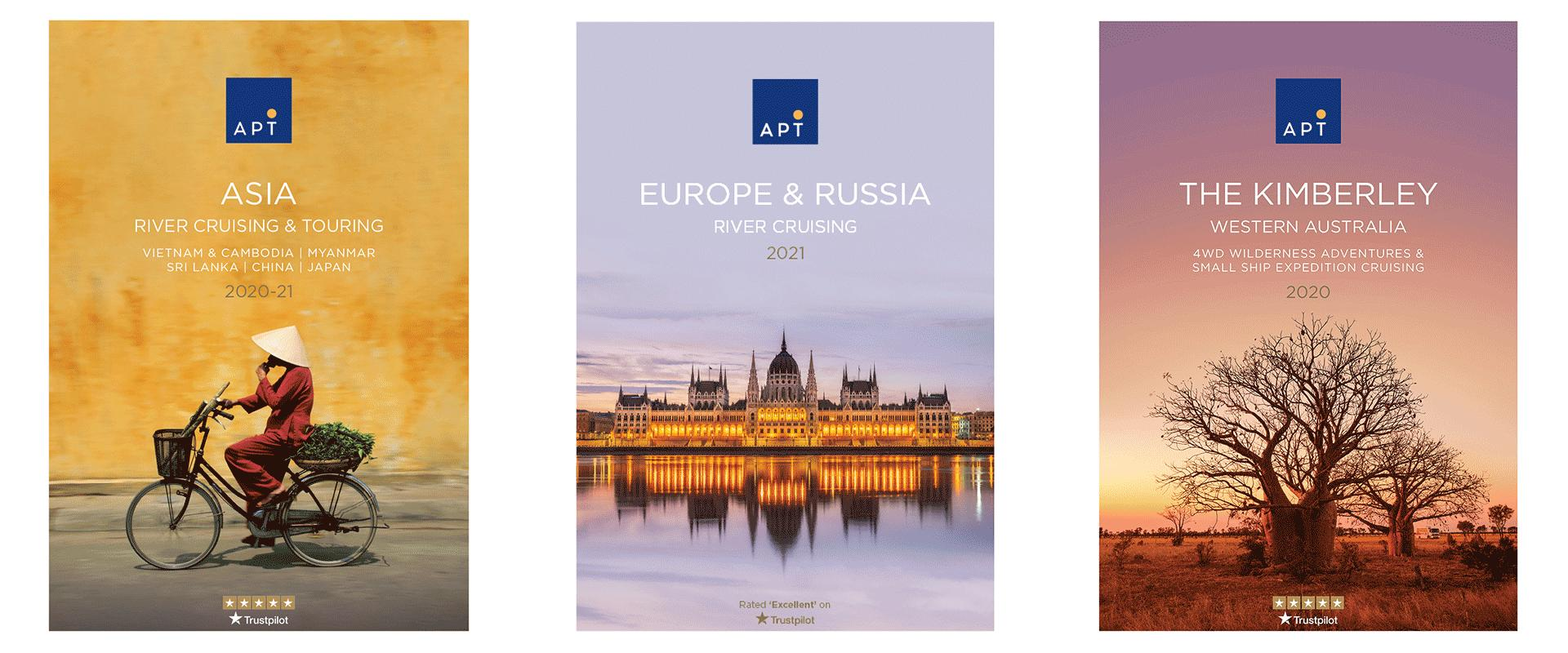paper: (72, 16, 1068, 641), (1083, 20, 1521, 635)
